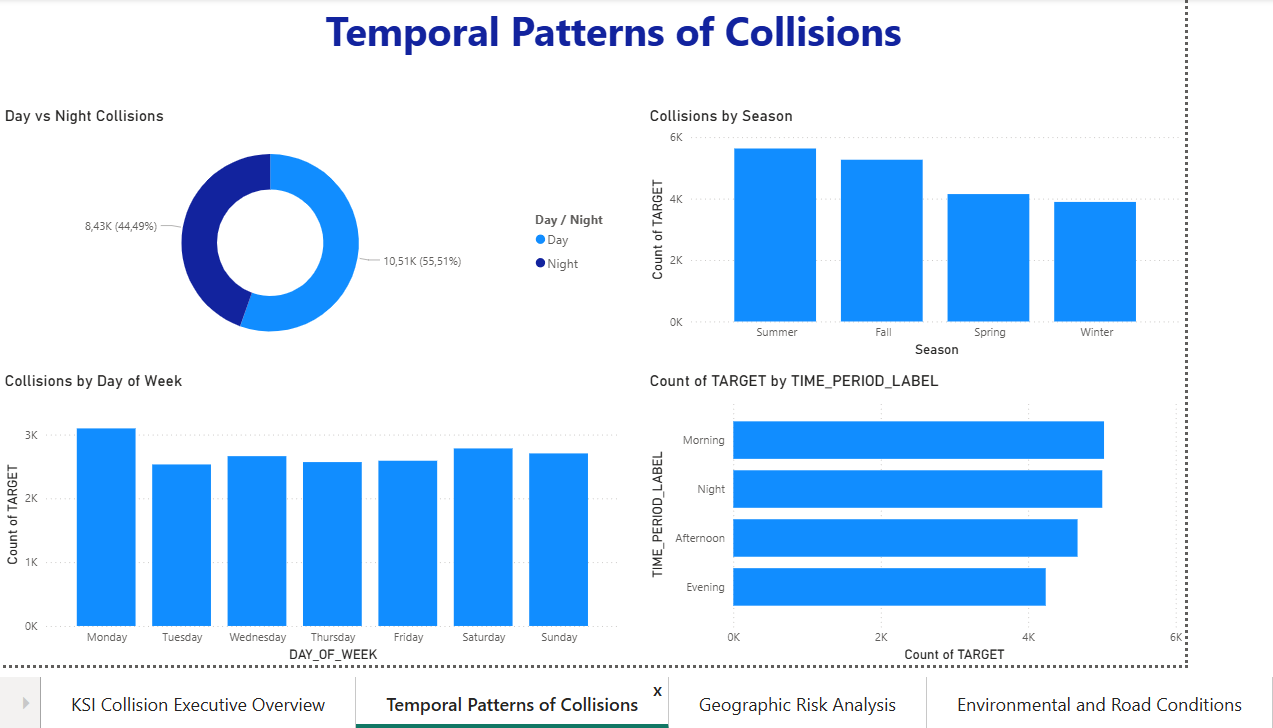

The page's visual inventory and layout, read from the dashboard file:
{"tool":"powerbi","page":{"name":"Temporal Patterns of Collisions","canvas":[1280,720],"ordinal":1},"visuals":[{"type":"textbox","box":[335.2,0,654.2,82.6],"z":0},{"type":"columnChart","title":"Collisions by Day of Week","fields":{"Y":["CountNonNull(KSI_PowerBI_Clean.TARGET)"],"Category":["KSI_PowerBI_Clean.DAY_OF_WEEK"]},"box":[0,403.2,673.6,317.4],"z":1000},{"type":"barChart","fields":{"Category":["KSI_PowerBI_Clean.TIME_PERIOD_LABEL"],"Y":["CountNonNull(KSI_PowerBI_Clean.TARGET)"]},"box":[696.3,403.2,584.5,317.4],"z":2000},{"type":"donutChart","title":"Day vs Night Collisions","fields":{"Category":["KSI_PowerBI_Clean.Day / Night"],"Y":["CountNonNull(KSI_PowerBI_Clean.TARGET)"]},"box":[0,116.6,673.6,275.3],"z":3000},{"type":"columnChart","title":"Collisions by Season","fields":{"Category":["KSI_PowerBI_Clean.Season"],"Y":["CountNonNull(KSI_PowerBI_Clean.TARGET)"]},"box":[696.3,116.6,584.5,275.3],"z":4000}]}

Visuals, with their boxes on the page's 1280x720 design canvas (x1, y1, x2, y2). These are canvas units, not pixel positions in the 1273x728 screenshot, which may show the page scaled, cropped or inside an application window:
textbox: [335, 0, 989, 83]
"Collisions by Day of Week" columnChart: [0, 403, 674, 721]
barChart - KSI_PowerBI_Clean.TIME_PERIOD_LABEL x CountNonNull(KSI_PowerBI_Clean.TARGET): [696, 403, 1281, 721]
"Day vs Night Collisions" donutChart: [0, 117, 674, 392]
"Collisions by Season" columnChart: [696, 117, 1281, 392]
